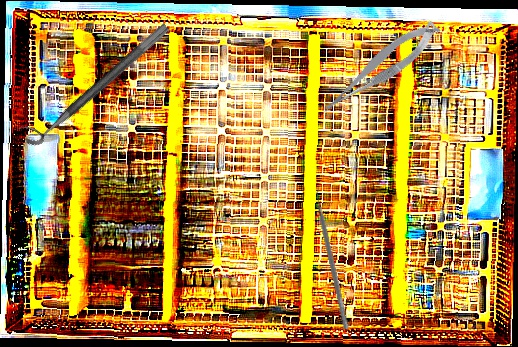Fixation Ring: (16, 10, 171, 151)
Micro Scissor: (310, 15, 449, 119)
Spatula Surgical: (310, 184, 356, 330)
